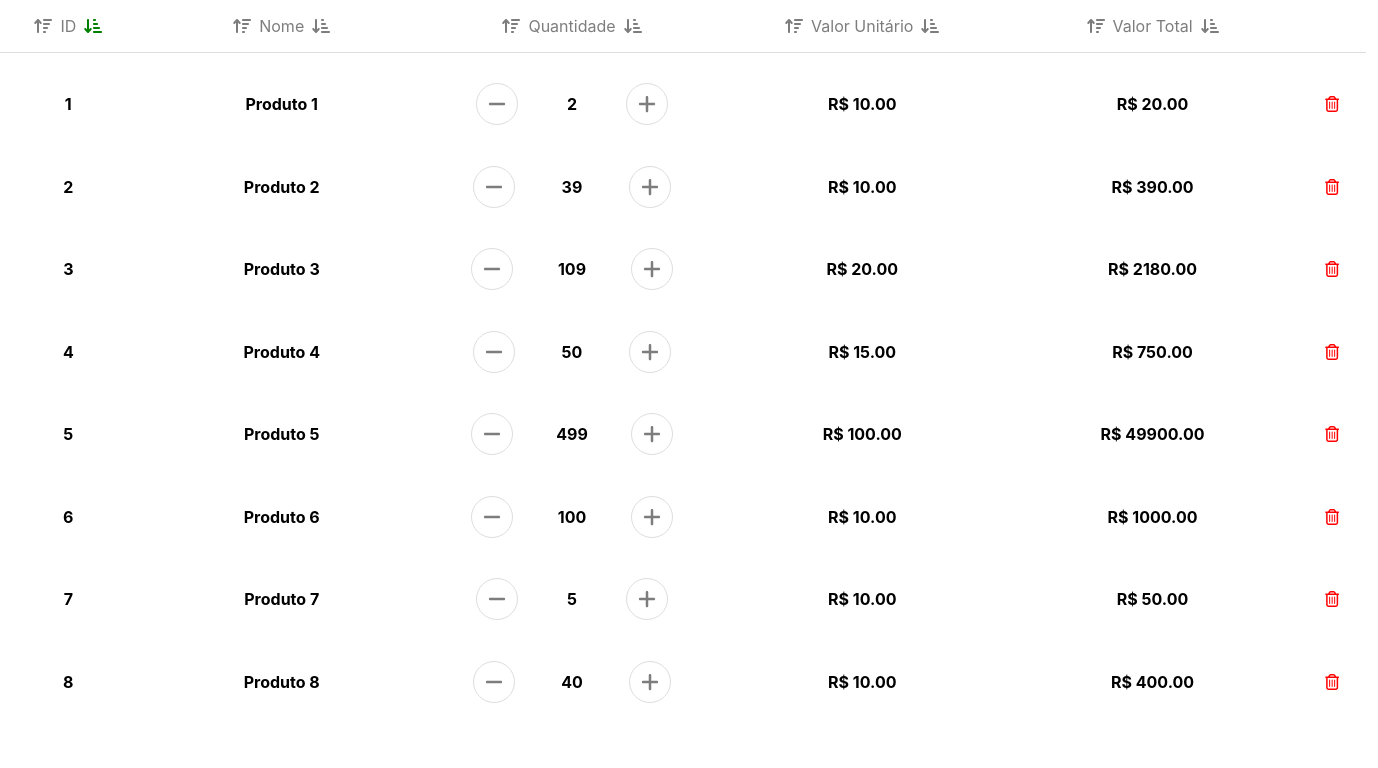
it: quantity component › is incremented by one after plus button is clicked on
This screenshot has width=1378, height=768.
Expected: the heading "2" is shown, [567,94,577,114]
Click the picture named "plus" in the row of "Produto 1". click: (647, 104)
box: [626,83,668,125]
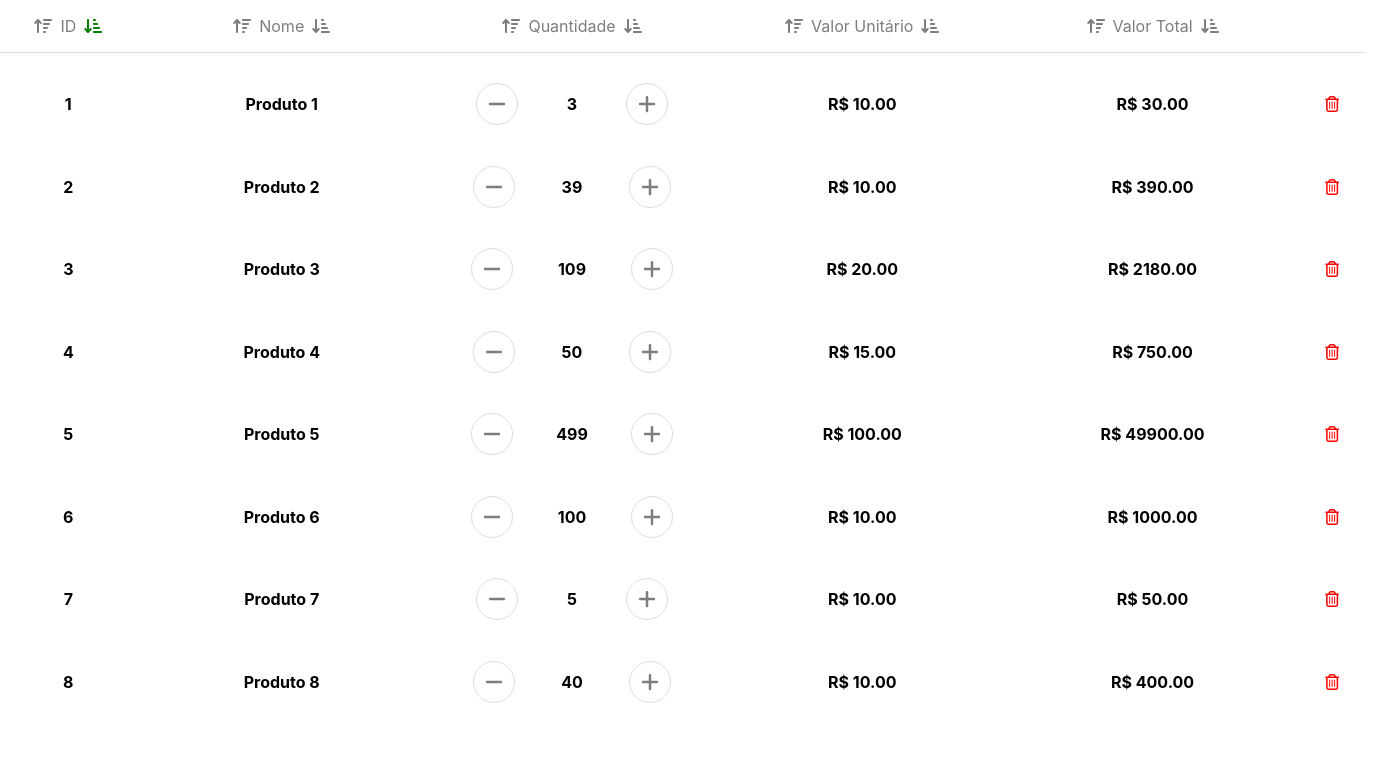
Expected: the heading "3" is shown, [567,94,577,114]
